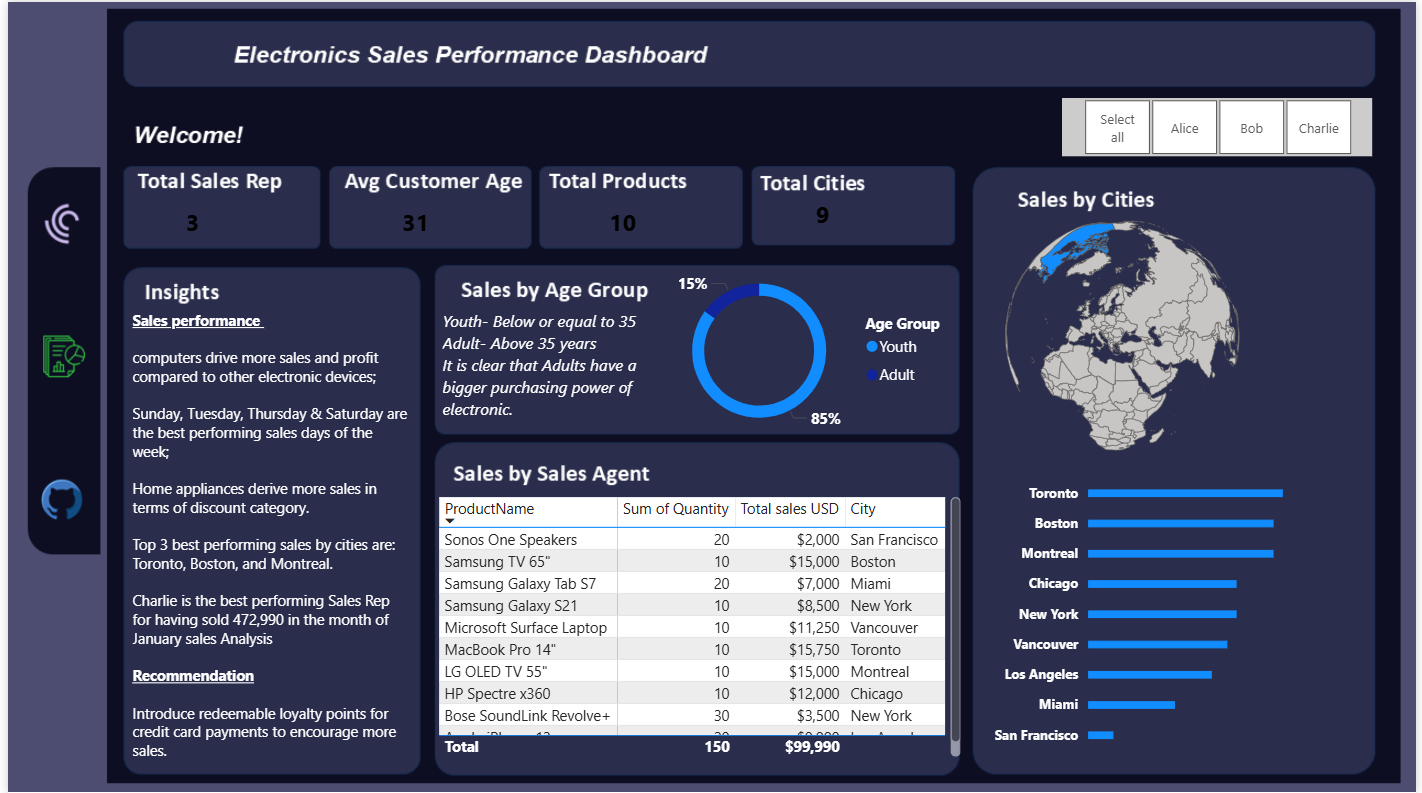

The page's visual inventory and layout, read from the dashboard file:
{"tool":"powerbi","page":{"name":"Report 1","canvas":[1280,720],"ordinal":1},"visuals":[{"type":"slicer","fields":{"Values":["Electronic Sales.SalesRep"]},"box":[958,87,282,53],"z":0},{"type":"tableEx","fields":{"Values":["Electronic Sales.ProductName","Sum(Electronic Sales.Quantity)","My Measues.Total sales USD","Electronic Sales.City"]},"box":[390,449.1,477.3,238.2],"z":1000},{"type":"shapeMap","fields":{"Category":["Electronic Sales.Country"]},"box":[890,173,246,261],"z":2000},{"type":"clusteredBarChart","fields":{"Category":["Electronic Sales.City"],"Y":["My Measues.Total sales USD"]},"box":[890,412,321,282],"z":3000},{"type":"textbox","box":[108,275,263,419],"z":4000},{"type":"card","fields":{"Values":["My Measues.Total Sales Rep"]},"box":[96,165,143,73],"z":5000},{"type":"card","fields":{"Values":["My Measues.AVG CUSTOMER AGE"]},"box":[299,165,143,73],"z":6000},{"type":"card","fields":{"Values":["My Measues.TOTAL PRODUCTS"]},"box":[487,165,143,73],"z":7000},{"type":"card","fields":{"Values":["My Measues.TOATL CITIES"]},"box":[669,158,143,73],"z":8000},{"type":"actionButton","box":[22.1,418.3,62.5,77.9],"z":9000},{"type":"actionButton","box":[22.1,290.4,62.5,74],"z":10000},{"type":"actionButton","box":[22,158,63,74],"z":11000},{"type":"donutChart","title":"Discount by Category","fields":{"Category":["Electronic Sales.Age Group"],"Y":["DAX Measues.Total sales USD"]},"box":[585.2,221.6,281.8,190.3],"z":12000},{"type":"textbox","box":[390.1,274.5,226.4,112],"z":13000}]}

Visuals, with their boxes on the page's 1280x720 design canvas (x1, y1, x2, y2). These are canvas units, not pixel positions in the 1422x793 screenshot, which may show the page scaled, cropped or inside an application window:
slicer - Electronic Sales.SalesRep: region(958, 87, 1240, 140)
tableEx - Electronic Sales.ProductName x Sum(Electronic Sales.Quantity): region(390, 449, 867, 687)
shapeMap - Electronic Sales.Country: region(890, 173, 1136, 434)
clusteredBarChart - Electronic Sales.City x My Measues.Total sales USD: region(890, 412, 1211, 694)
textbox: region(108, 275, 371, 694)
card - My Measues.Total Sales Rep: region(96, 165, 239, 238)
card - My Measues.AVG CUSTOMER AGE: region(299, 165, 442, 238)
card - My Measues.TOTAL PRODUCTS: region(487, 165, 630, 238)
card - My Measues.TOATL CITIES: region(669, 158, 812, 231)
actionButton: region(22, 418, 85, 496)
actionButton: region(22, 290, 85, 364)
actionButton: region(22, 158, 85, 232)
"Discount by Category" donutChart: region(585, 222, 867, 412)
textbox: region(390, 274, 616, 386)
